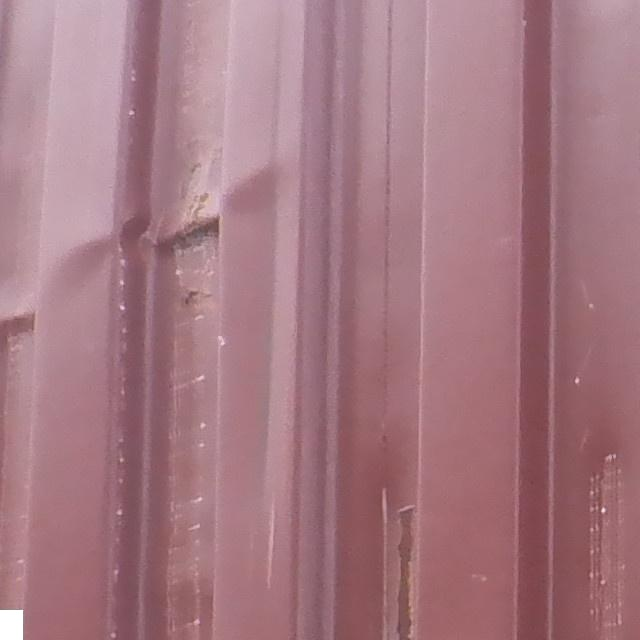Dent: (26, 160, 300, 280)
